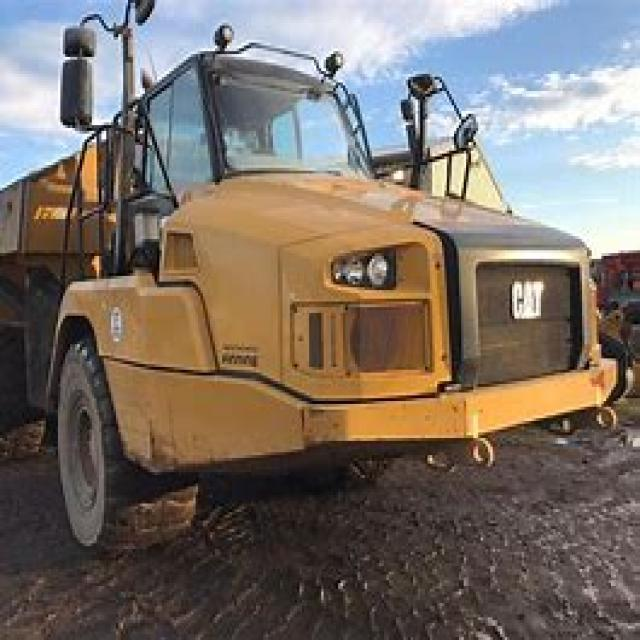dump_truck: (2, 14, 638, 555)
